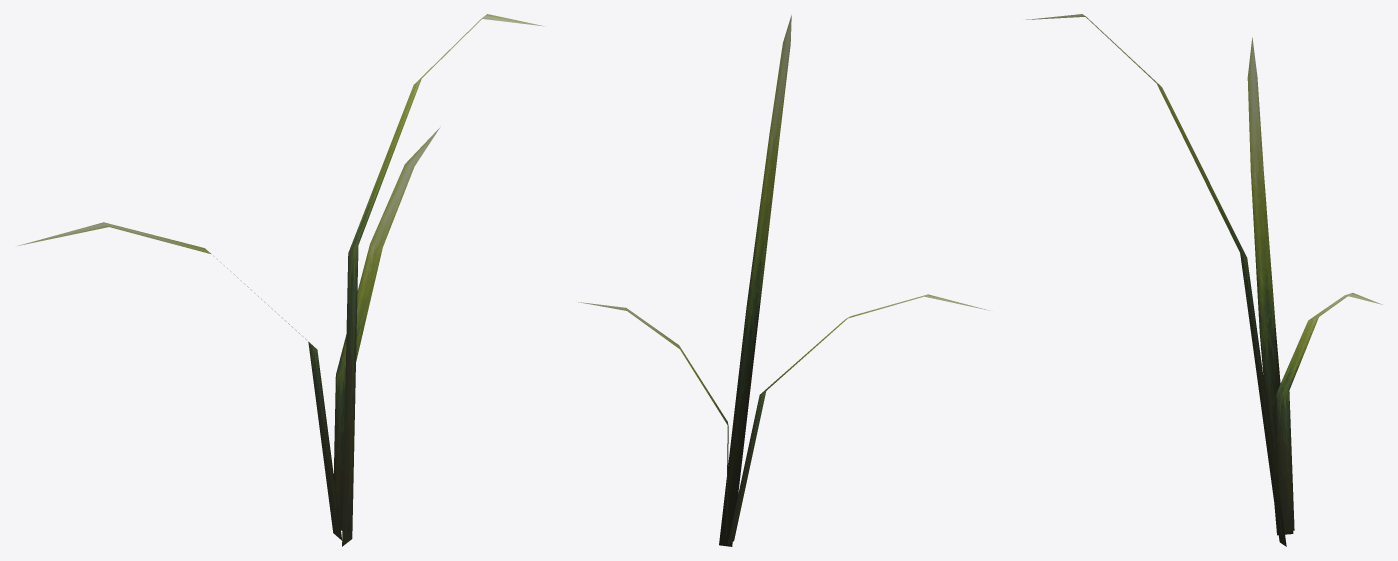
Rendered from swmp_shor_cattail_sm_l0.fbx.
3 views of the same model, side by side, from view 1: azimuth 30°, elevation 25°; view 2: azimuth 150°, elevation 25°; view 3: azimuth 270°, elevation 25° (orthographic). The views are drawn at different scales.
Visible parts, largest first — view 1: mesh_node; view 2: mesh_node; view 3: mesh_node.
Part boxes in pixels (x1,y1,x2,y2): mesh_node: (18, 14, 545, 546); mesh_node: (578, 15, 990, 546); mesh_node: (1026, 14, 1382, 546).
Bounding box in the file's own units: 1.7 × 1.98 × 1.18.
